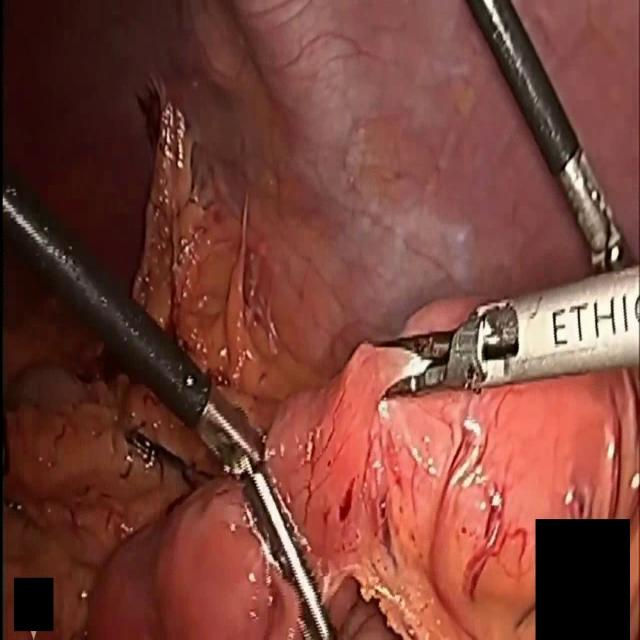surgical-tool: (0, 156, 266, 480), (466, 0, 632, 271), (388, 262, 640, 394)
